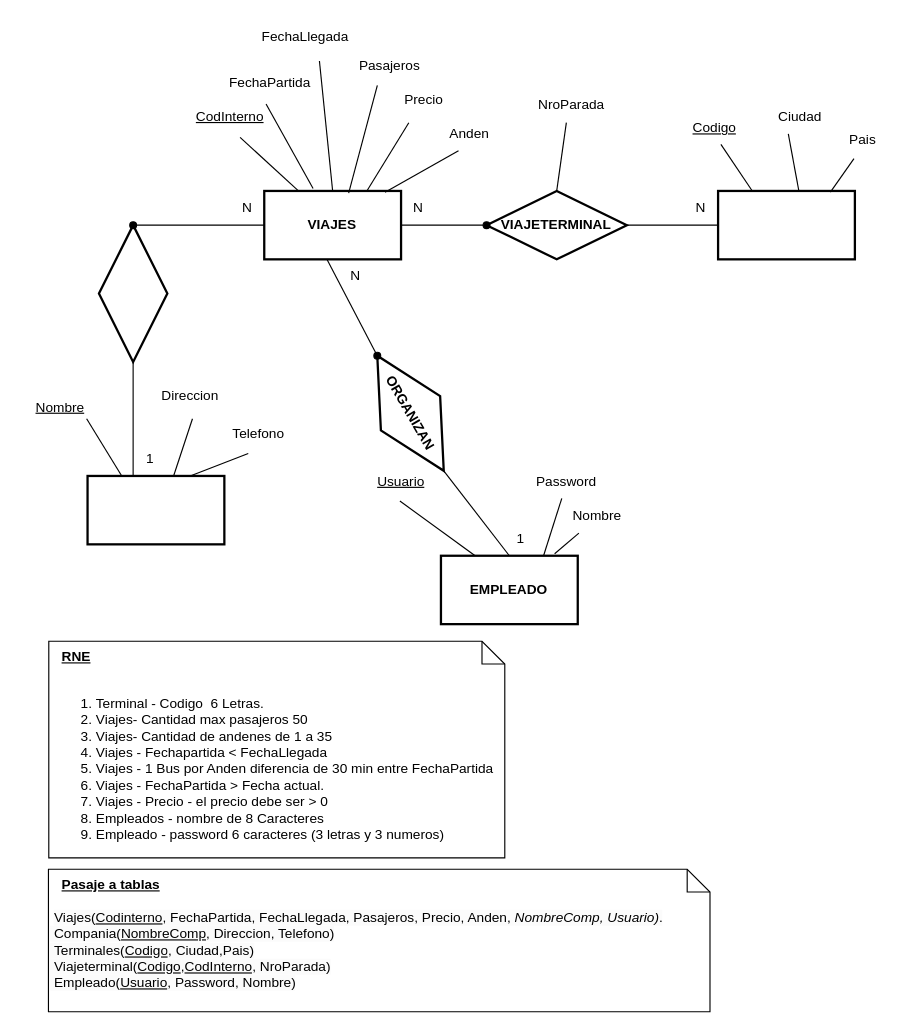
Some shapes in this 910 by 1032 pixel diagram are drawn without their labels. Each missing label, with the box of its shape:
COMPAÑIA: (86, 474, 225, 545)
CREAN: (97, 223, 168, 363)
TERMINALES: (716, 189, 855, 260)
